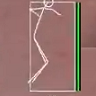hacks_1: (28, 1, 82, 92)
